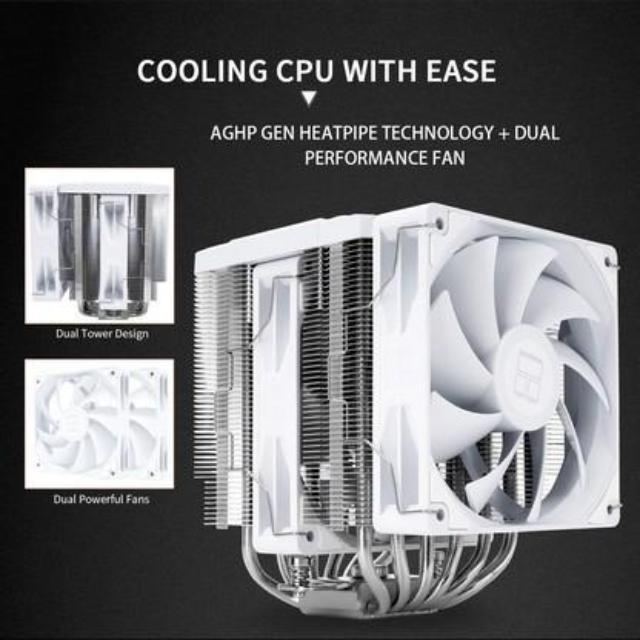CPU_Fan: (192, 199, 624, 621)
